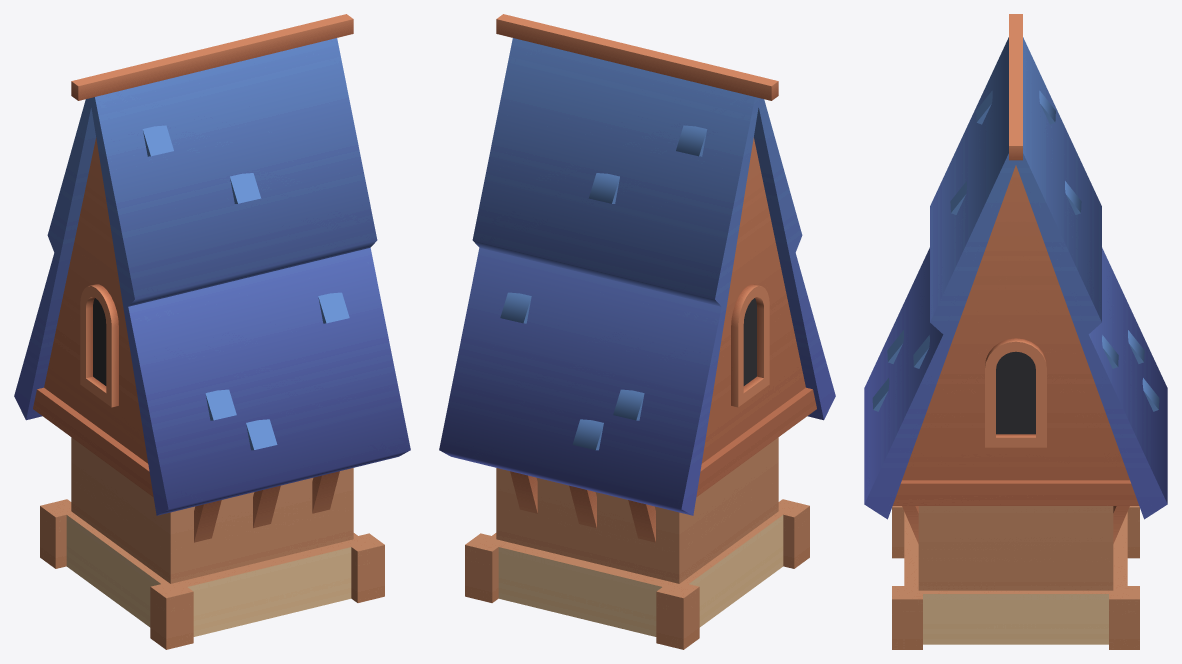
File: tower-slant-roof.glb
3 renders of one model, left to right at view 1: azimuth 30°, elevation 25°; view 2: azimuth 150°, elevation 25°; view 3: azimuth 270°, elevation 25°, orthographic.
Parts seen in each view (by area): view 1: tower-slant-roof; view 2: tower-slant-roof; view 3: tower-slant-roof.
Boxes of the visible parts, bbox=[...] form: tower-slant-roof: bbox=[14, 14, 410, 649]; tower-slant-roof: bbox=[439, 14, 835, 649]; tower-slant-roof: bbox=[864, 14, 1167, 649].
Bounding box in the file's own units: 1.17 × 2.14 × 1.14.
Materials: 1 (1 with a texture image).
